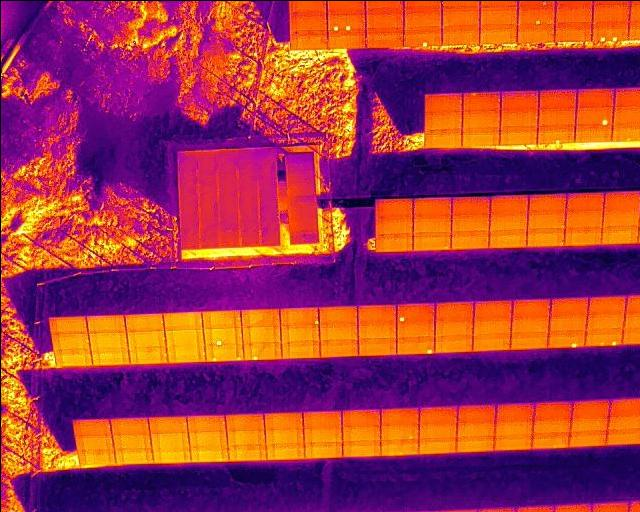Cell: (395, 302, 434, 323), (404, 25, 441, 45), (202, 327, 242, 345), (517, 5, 555, 23), (547, 329, 585, 347), (279, 308, 317, 325), (243, 342, 281, 359), (575, 107, 612, 124), (537, 125, 574, 142), (396, 337, 433, 354)
Cell-Multi: (327, 8, 365, 29), (584, 327, 623, 346), (591, 21, 628, 40), (203, 344, 243, 360)
No-Anomaly: (434, 300, 472, 323), (472, 299, 511, 320), (357, 305, 396, 325), (288, 9, 326, 29), (366, 8, 403, 28), (512, 297, 549, 317), (462, 91, 500, 110), (374, 198, 412, 217), (526, 227, 564, 246), (375, 232, 413, 251), (550, 298, 588, 317), (554, 22, 592, 41), (319, 306, 357, 325), (202, 309, 240, 328), (441, 24, 479, 43), (380, 407, 418, 426), (162, 311, 202, 329), (85, 314, 125, 332), (403, 6, 440, 25), (366, 28, 403, 47), (412, 214, 451, 232), (124, 313, 163, 331), (48, 315, 87, 333), (319, 339, 358, 357), (280, 339, 319, 357), (424, 93, 462, 111), (592, 3, 630, 21), (554, 4, 592, 22), (499, 126, 537, 144), (461, 127, 499, 145), (423, 128, 461, 146), (441, 6, 479, 24), (479, 6, 517, 24), (450, 230, 488, 248), (412, 231, 450, 249), (240, 308, 278, 326), (479, 24, 517, 42), (472, 333, 510, 351), (289, 30, 327, 48), (533, 400, 571, 418), (538, 89, 576, 107), (500, 90, 538, 108), (125, 331, 165, 348), (88, 331, 128, 348), (500, 109, 537, 127), (603, 191, 640, 209), (528, 193, 565, 211), (600, 225, 637, 243), (489, 229, 526, 247), (328, 30, 365, 48), (576, 88, 613, 106), (109, 417, 148, 434), (489, 195, 528, 212), (280, 324, 319, 341), (166, 344, 205, 361), (341, 409, 380, 426), (263, 411, 302, 428), (225, 413, 264, 430), (72, 418, 111, 435), (226, 444, 265, 461), (537, 107, 575, 124), (462, 110, 500, 127), (423, 111, 461, 128), (565, 192, 603, 209), (451, 196, 489, 213), (413, 197, 451, 214), (564, 210, 602, 227), (451, 213, 489, 230), (548, 314, 586, 331), (510, 331, 548, 348), (357, 338, 395, 355), (571, 400, 609, 417), (496, 402, 534, 419), (457, 404, 495, 421), (531, 431, 569, 448), (189, 445, 227, 462), (49, 332, 89, 348), (490, 212, 527, 229), (564, 227, 601, 244), (517, 24, 554, 41), (54, 348, 91, 365), (148, 416, 187, 432), (186, 414, 225, 430), (318, 324, 357, 340), (241, 326, 280, 342), (90, 348, 129, 364), (302, 410, 341, 426), (341, 425, 380, 441), (341, 441, 380, 457), (265, 443, 304, 459), (114, 447, 153, 463), (526, 211, 564, 227), (585, 313, 623, 329), (419, 406, 457, 422), (456, 421, 494, 437), (303, 426, 341, 442), (418, 437, 456, 453), (380, 439, 418, 455), (303, 441, 341, 457), (151, 446, 189, 462), (164, 329, 204, 344), (187, 430, 227, 445), (574, 124, 611, 140), (588, 297, 625, 313), (473, 320, 510, 336), (435, 336, 472, 352), (494, 434, 531, 450), (373, 218, 412, 233), (127, 347, 166, 362), (494, 419, 533, 434), (264, 428, 303, 443), (225, 430, 264, 445), (603, 209, 639, 225), (510, 317, 548, 332), (434, 322, 472, 337), (357, 323, 395, 338), (396, 323, 434, 338), (533, 417, 571, 432), (418, 422, 456, 437), (380, 424, 418, 439), (150, 432, 188, 447), (455, 435, 493, 450), (570, 416, 607, 431), (111, 434, 150, 448), (570, 430, 606, 445), (75, 434, 113, 448), (78, 449, 114, 463), (366, 175, 368, 180)
